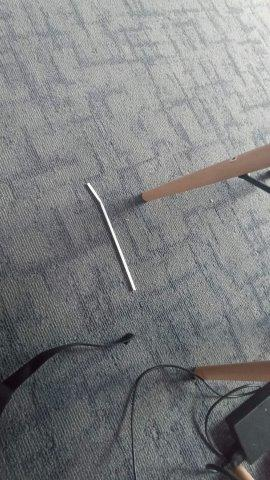sedotan: (87, 184, 136, 291)
